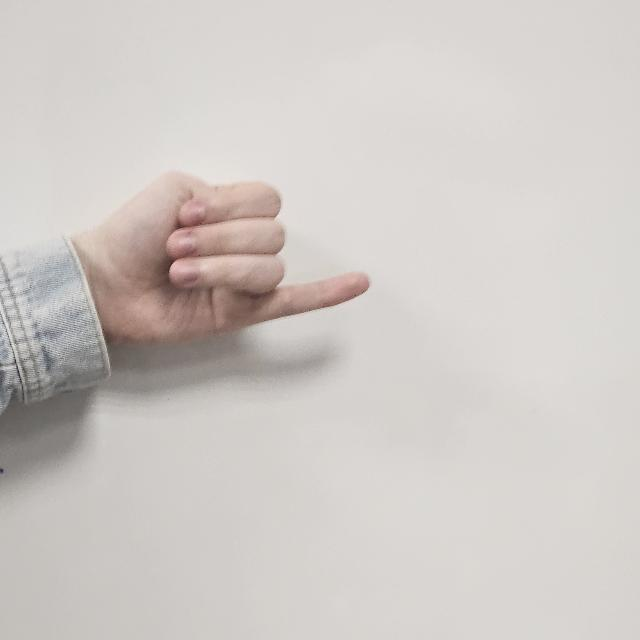Esquerda: (78, 128, 382, 376)
